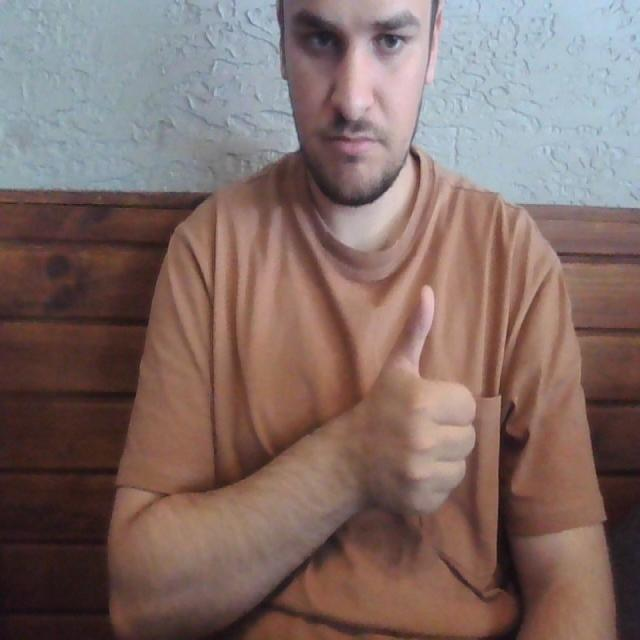Tamam: (359, 261, 486, 514)
